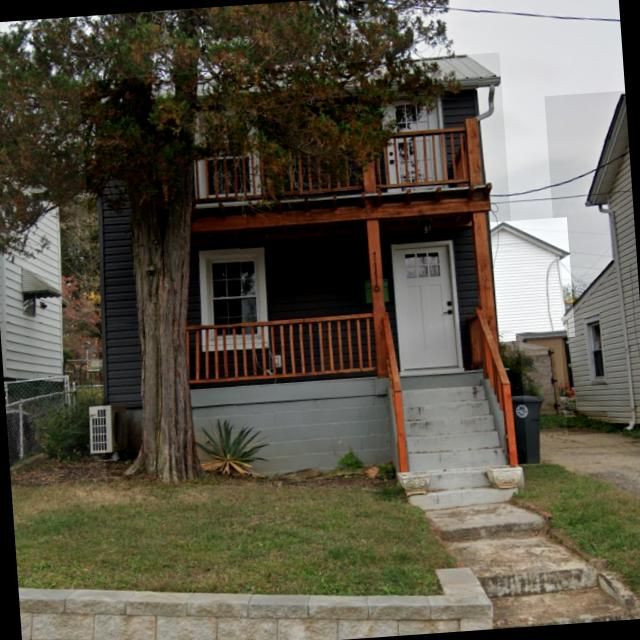House: (79, 52, 528, 492), (543, 90, 640, 435), (0, 183, 76, 464), (490, 216, 574, 342)
